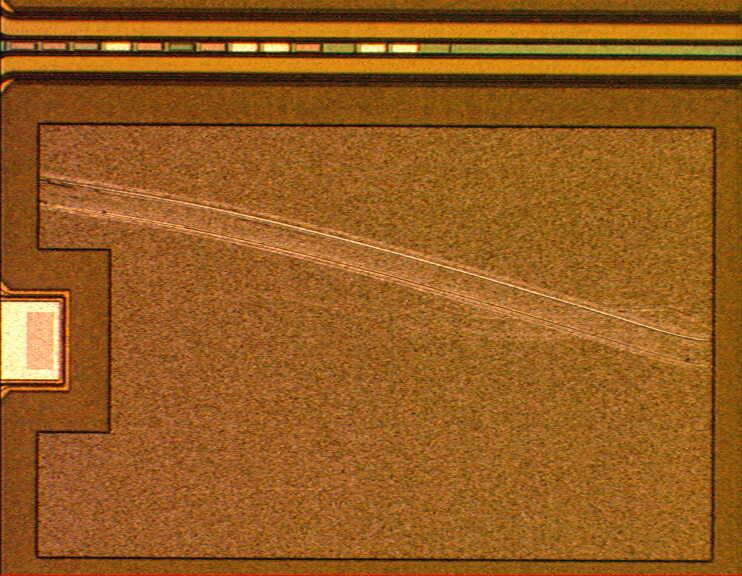SCRATCH: (39, 164, 714, 382)
